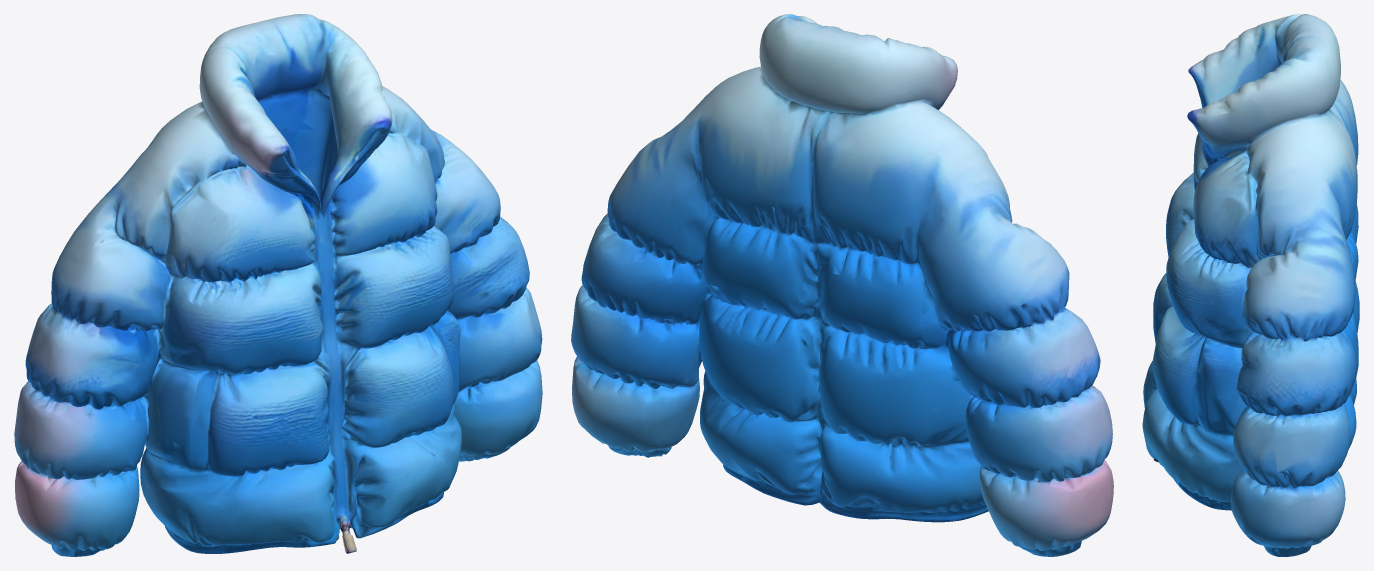
The model's file is web.glb.
3 renders of one model, left to right at view 1: azimuth 30°, elevation 25°; view 2: azimuth 150°, elevation 25°; view 3: azimuth 270°, elevation 25°, orthographic. The views are drawn at different scales.
Parts seen in each view (by area): view 1: model; view 2: model; view 3: model.
Boxes of the visible parts, x1,y1,x2,y2 form: model: (14,14,542,556); model: (571,14,1113,556); model: (1142,14,1359,556).
Bounding box in the file's own units: 2 × 1.76 × 0.807.
Materials: 1 (1 with a texture image).
